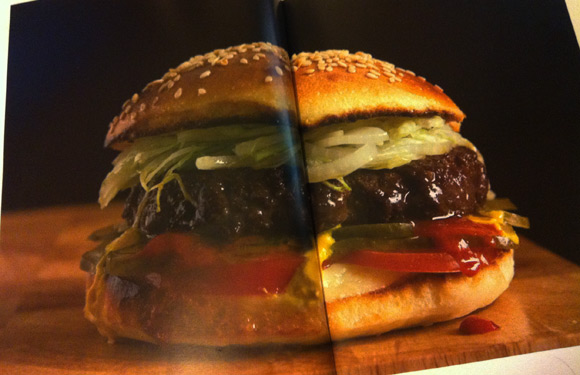hamburger_buns: (115, 34, 467, 114)
